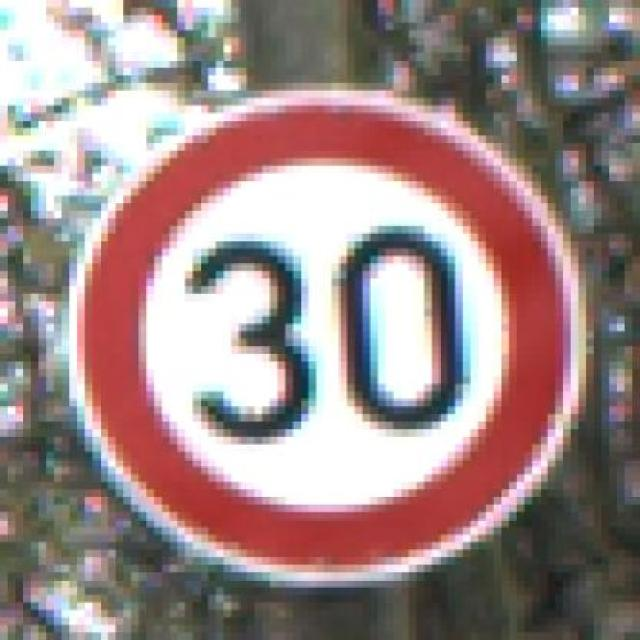Speed Limit 30 KMPh: (23, 60, 632, 611)
